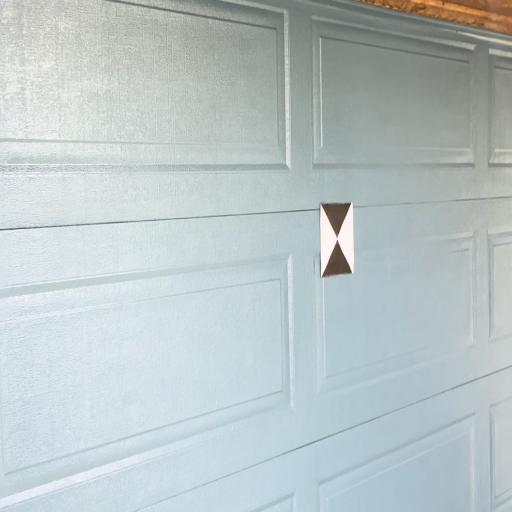target: (320, 205, 354, 276)
